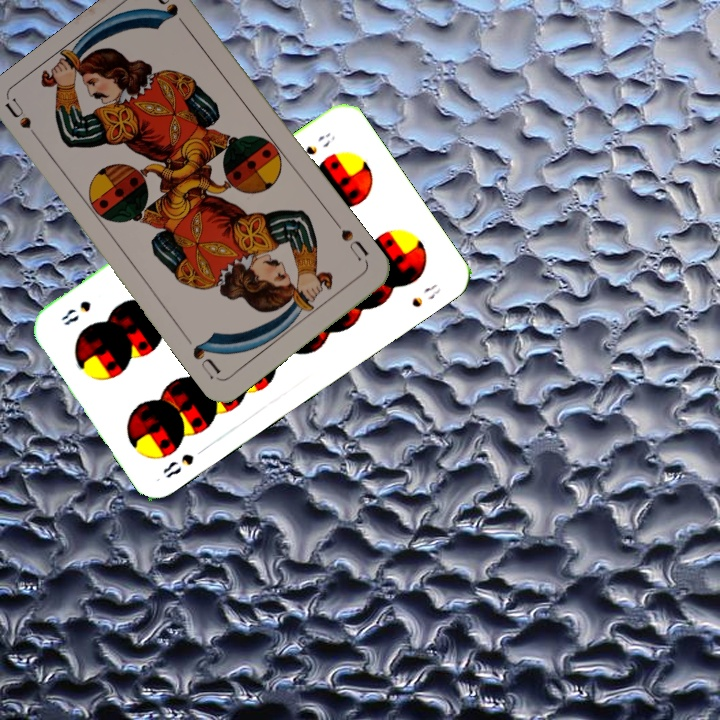S8: (158, 449, 197, 481), (301, 128, 338, 158)
SU: (2, 95, 46, 149), (329, 216, 372, 264)
